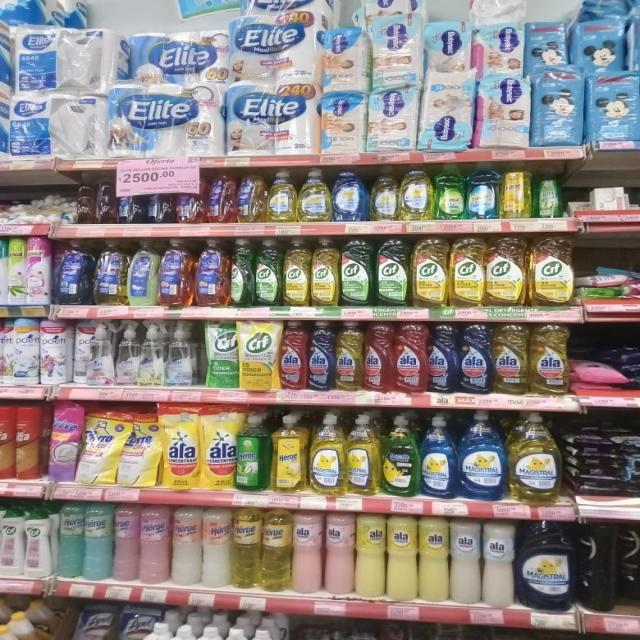ala_conc_amarillo: (530, 323, 569, 396), (493, 323, 529, 395), (335, 320, 363, 392)
ala_conc_azul: (458, 323, 492, 395), (428, 323, 457, 394), (308, 319, 334, 392)
ala_conc_rojo: (394, 321, 427, 394), (364, 320, 393, 393), (280, 320, 306, 390)
ala_crem_amarillo: (387, 514, 417, 602), (419, 516, 449, 603), (356, 513, 385, 599)
ala_crem_blanco: (482, 521, 516, 607), (451, 518, 481, 606)
ala_crem_rosado: (293, 510, 323, 595), (325, 512, 354, 596)
ala_sachet_amarillo: (162, 402, 199, 489), (200, 404, 236, 490)
cif_conc_bot_amarilla: (529, 235, 575, 308), (487, 236, 526, 307), (411, 236, 448, 308), (449, 236, 485, 308), (311, 237, 339, 307), (283, 238, 310, 307)
cif_conc_botella_verde: (375, 238, 409, 308), (341, 237, 374, 307), (254, 238, 282, 307), (230, 238, 252, 307)
cif_conc_sachet_amarillo: (240, 319, 278, 390)
cif_conc_sachet_verde: (204, 319, 238, 388)
esencial: (466, 162, 499, 220)
heroe: (261, 507, 292, 593), (139, 504, 170, 585), (231, 507, 260, 590), (171, 506, 201, 586), (202, 506, 230, 589), (84, 502, 112, 582), (113, 503, 139, 583), (57, 502, 83, 580), (426, 624, 469, 640)
magistral_con_amarillo: (509, 412, 561, 503), (309, 413, 345, 495), (346, 414, 379, 496), (399, 165, 433, 221), (298, 168, 331, 222), (267, 169, 297, 223), (370, 165, 398, 221)
magistral_con_azul: (518, 520, 574, 610), (459, 410, 506, 501), (421, 415, 456, 499), (333, 169, 368, 222)
zorro: (159, 238, 193, 308), (195, 237, 228, 307), (94, 238, 126, 306), (128, 238, 158, 307), (207, 170, 236, 223), (238, 171, 265, 223)
